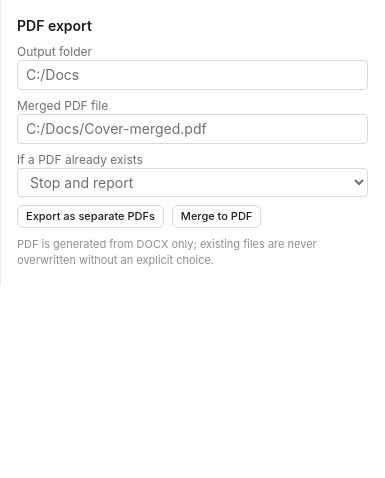
Test: PdfExportPanel › separate export uses the explicit output folder and reports per-file typed outcomes
The image size is (385, 478).
Check: the field labelled "Output folder" holds "C:/Docs", box [17,60,368,90]
Step 1. Click the button "Export as separate PDFs" → x=90, y=216, box [17,205,164,228]
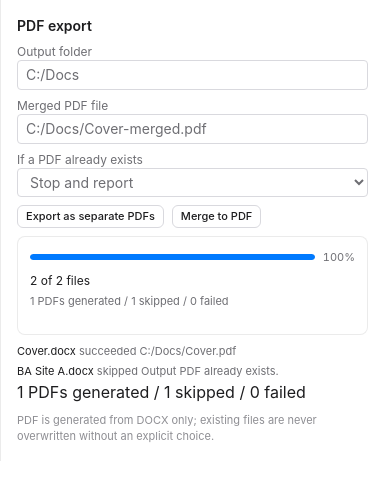
Check: the message reads "1 PDFs generated / 1 skipped / 0 failed", box [17,382,306,402]
Check: the list named "PDF export results" shows "BA Site A.docx", box [17,364,94,378]
Check: the list named "PDF export results" shows "skipped", box [97,364,138,378]
